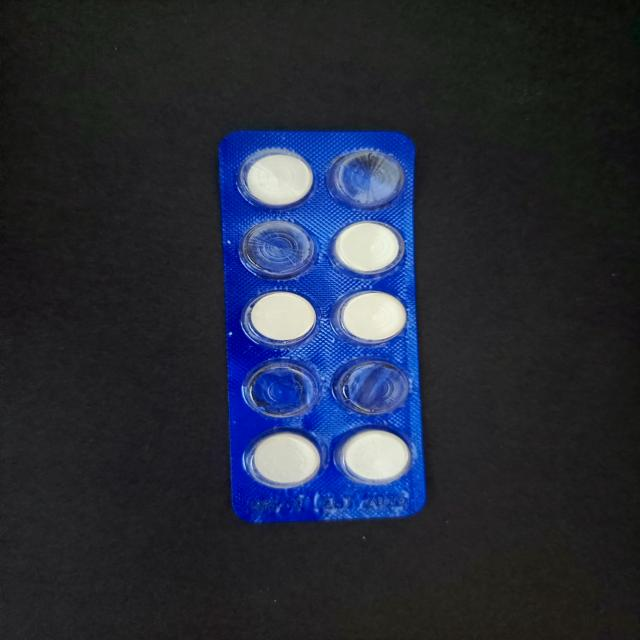defect: (235, 217, 321, 282), (324, 147, 408, 211), (327, 355, 412, 418), (238, 358, 324, 420)
